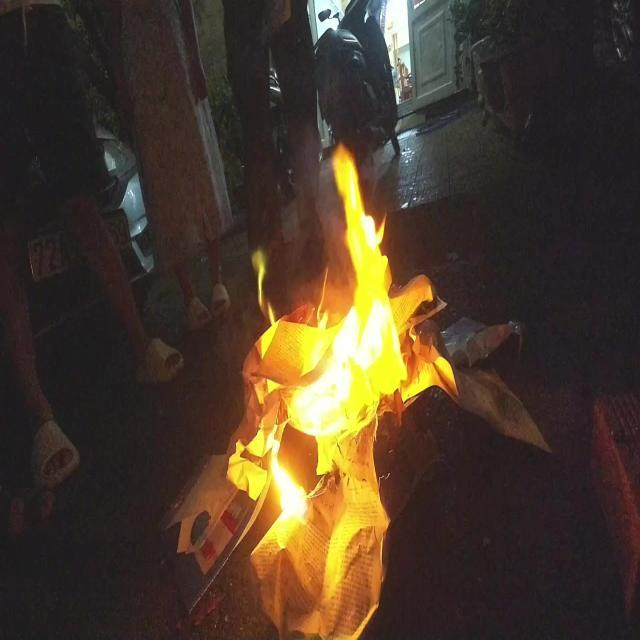Fire: (224, 140, 456, 550)
